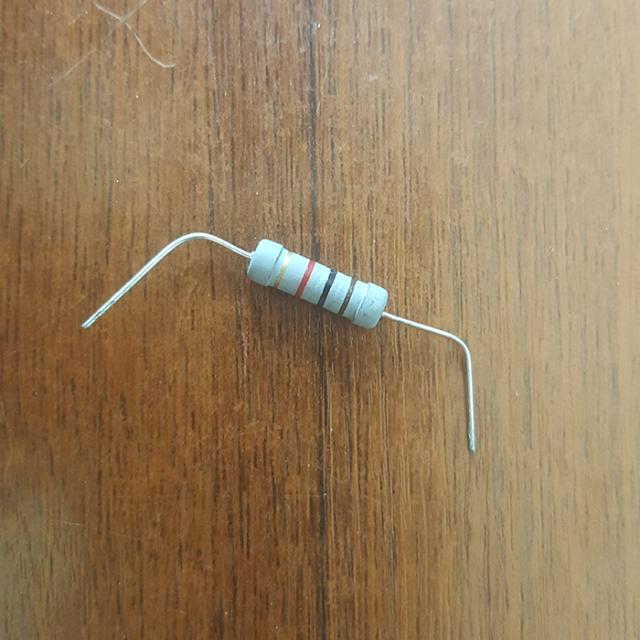black: (336, 279, 356, 315), (316, 270, 336, 305)
gold: (273, 251, 289, 286)
red: (294, 260, 315, 296)
resistor: (235, 225, 395, 342)
